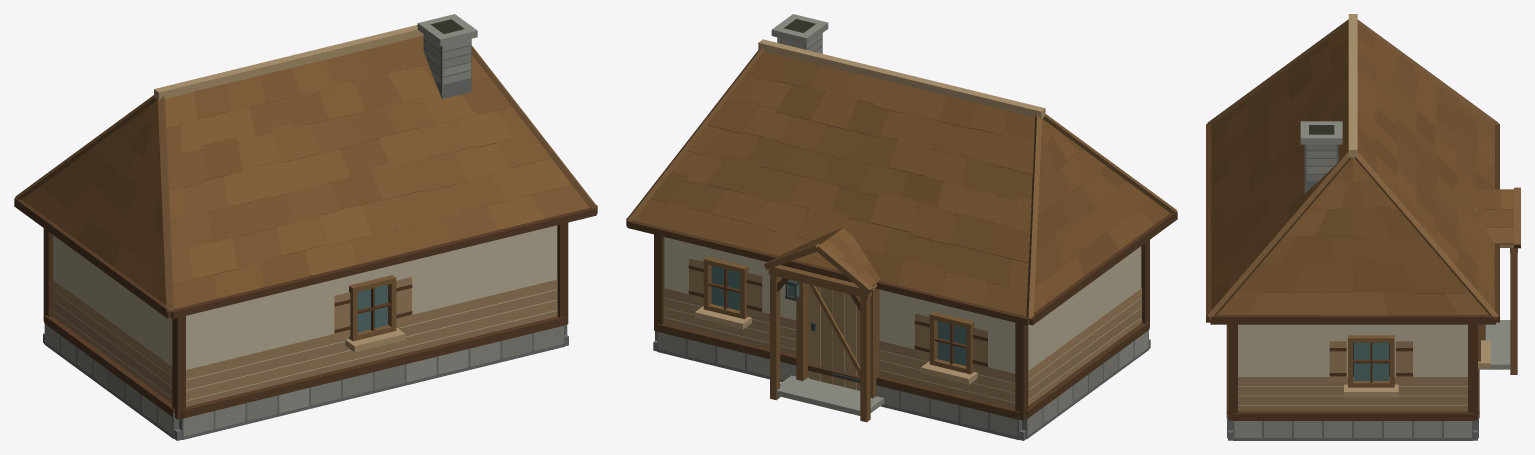
File: LongCabin.glb
3 views of the same model, side by side, from view 1: azimuth 30°, elevation 25°; view 2: azimuth 150°, elevation 25°; view 3: azimuth 270°, elevation 25° (orthographic). The views are drawn at different scales.
Parts seen in each view (by area): view 1: LongCabin_Body, HouseGlass; view 2: LongCabin_Body, HouseDoor, HouseGlass; view 3: LongCabin_Body, HouseGlass.
Boxes of the visible parts, x1,y1,x2,y2 form: LongCabin_Body: [14, 14, 597, 440]; HouseGlass: [357, 284, 387, 332]; LongCabin_Body: [626, 14, 1177, 440]; HouseDoor: [807, 284, 860, 390]; HouseGlass: [711, 266, 966, 365]; LongCabin_Body: [1206, 14, 1520, 440]; HouseGlass: [1353, 342, 1388, 380].
Size of the model in its own units: 8.12 by 5.38 by 5.52.
